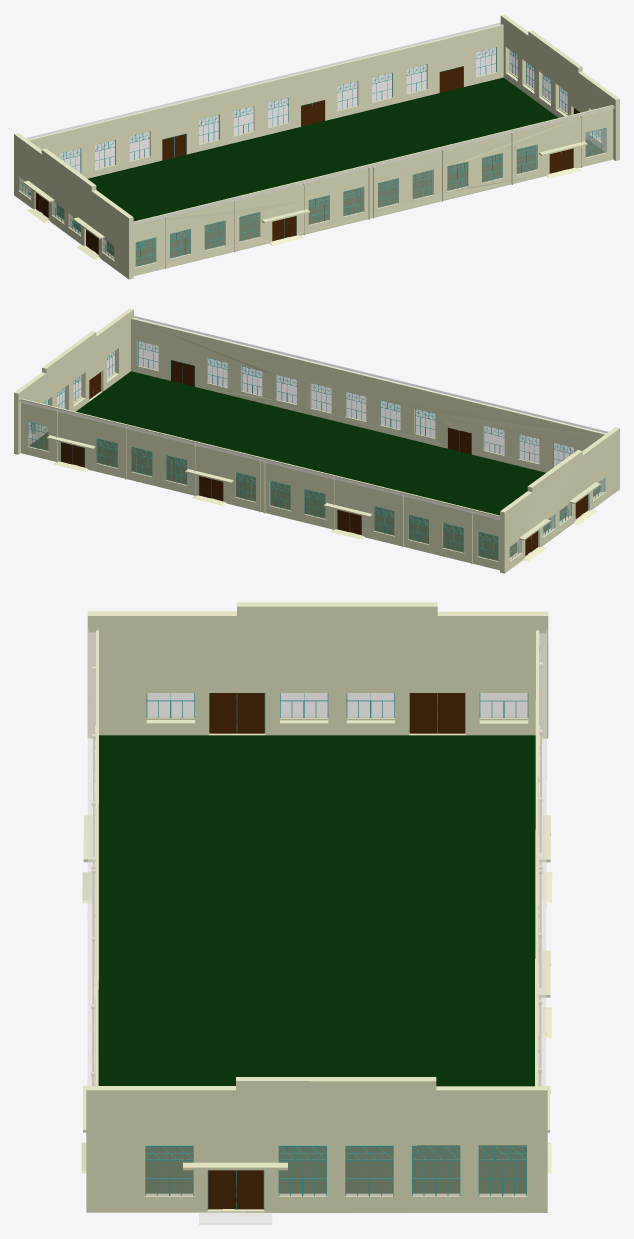
File: 厂房无盖.obj
3 renders of one model, top to bottom at view 1: azimuth 30°, elevation 25°; view 2: azimuth 150°, elevation 25°; view 3: azimuth 270°, elevation 25°, orthographic. The views are drawn at different scales.
Parts seen in each view (by area): view 1: object_6, object_2, object_4, object_3, object_8, object_1, object_5, object_11, object_14, object_7, object_12, object_10 (+1 smaller); view 2: object_6, object_4, object_2, object_3, object_8, object_1, object_5, object_11, object_14, object_7, object_12, object_10 (+1 smaller); view 3: object_6, object_8, object_1, object_3, object_11, object_14, object_5, object_7, object_12, object_10, object_4, object_2 (+2 smaller).
Boxes of the visible parts, box(x1,y1,x2,y2) form: object_6: box(28, 77, 604, 266); object_2: box(133, 105, 613, 276); object_4: box(24, 24, 503, 192); object_3: box(19, 47, 606, 267); object_8: box(14, 133, 133, 279); object_1: box(500, 14, 619, 160); object_5: box(19, 47, 606, 265); object_11: box(26, 22, 615, 225); object_14: box(36, 66, 579, 254); object_7: box(18, 69, 607, 268); object_12: box(165, 115, 582, 268); object_10: box(27, 167, 580, 259); object_6: box(29, 371, 600, 560); object_4: box(21, 398, 499, 570); object_2: box(131, 318, 605, 485); object_3: box(28, 341, 604, 561); object_8: box(500, 427, 619, 573); object_1: box(14, 308, 133, 454); object_5: box(27, 341, 604, 561); object_11: box(19, 316, 608, 519); object_14: box(61, 360, 587, 555); object_7: box(27, 363, 605, 562); object_12: box(55, 410, 473, 564); object_10: box(53, 461, 596, 561); object_6: box(98, 735, 535, 1193); object_8: box(87, 602, 548, 738); object_1: box(86, 1077, 547, 1212); object_3: box(146, 693, 527, 1195); object_11: box(87, 628, 547, 1086); object_14: box(208, 693, 464, 1209); object_5: box(145, 693, 528, 1209); object_7: box(83, 717, 550, 1198); object_12: box(91, 662, 542, 1085); object_10: box(81, 733, 552, 1173); object_4: box(535, 630, 539, 1086); object_2: box(95, 630, 98, 1085).
Size of the model in its own units: 2640 by 327 by 1057.
